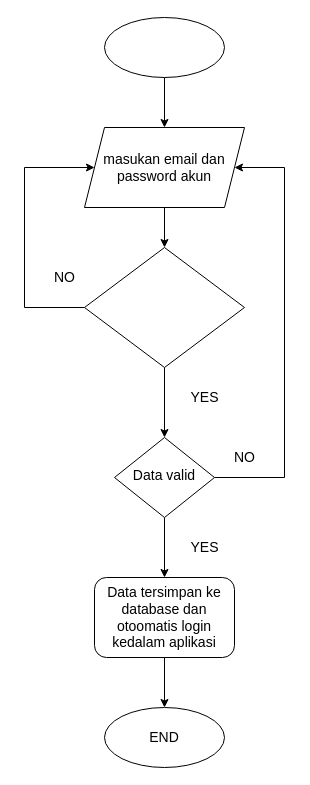
The diagram is 310 pixels wide and 785 high, and some of its shapes have lost their labels. The centre of each missing label's shape, as x and y in pixels:
Data telah ada didalam database?: the point at 164,307
START: the point at 164,47
